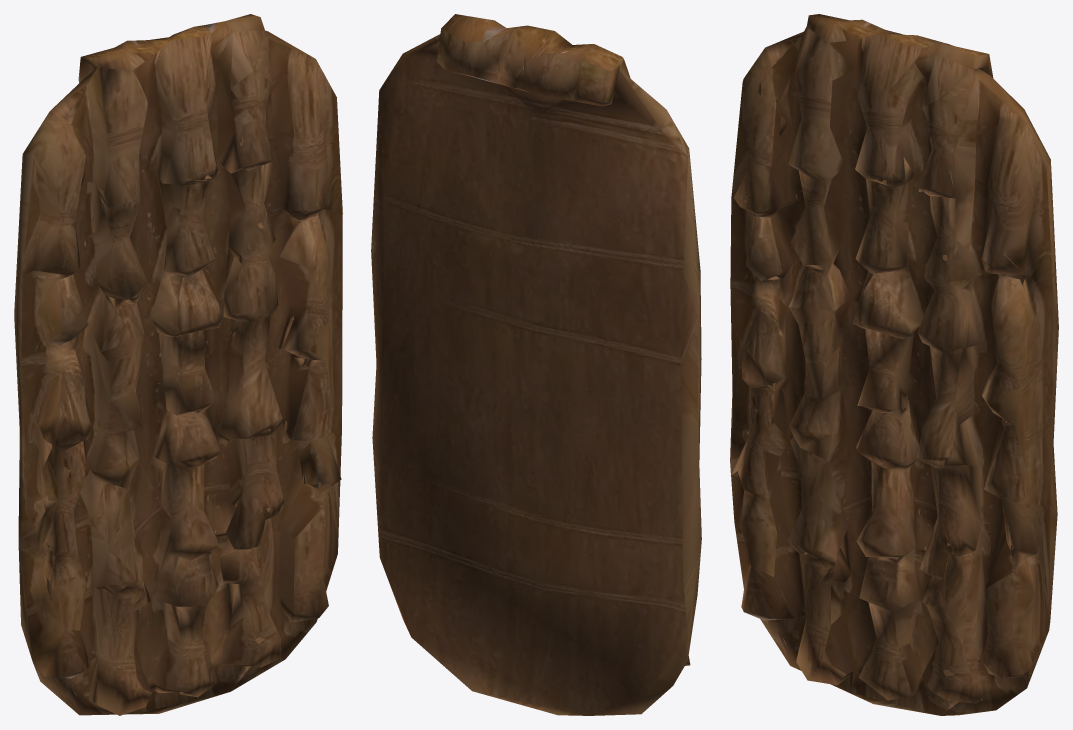
Rendered from tam-moc.glb.
The picture shows the model from 3 angles, left to right: view 1: azimuth 30°, elevation 25°; view 2: azimuth 150°, elevation 25°; view 3: azimuth 330°, elevation 25°; orthographic projection.
Visible parts, largest first — view 1: TamMoc1; view 2: TamMoc1; view 3: TamMoc1.
Boxes of the visible parts, <box> form: TamMoc1: <box>14,14,342,715</box>; TamMoc1: <box>371,14,701,715</box>; TamMoc1: <box>730,14,1058,715</box>.
Bounding box in the file's own units: 1.11 × 2.2 × 0.2477.
1 material, 1 textured.
